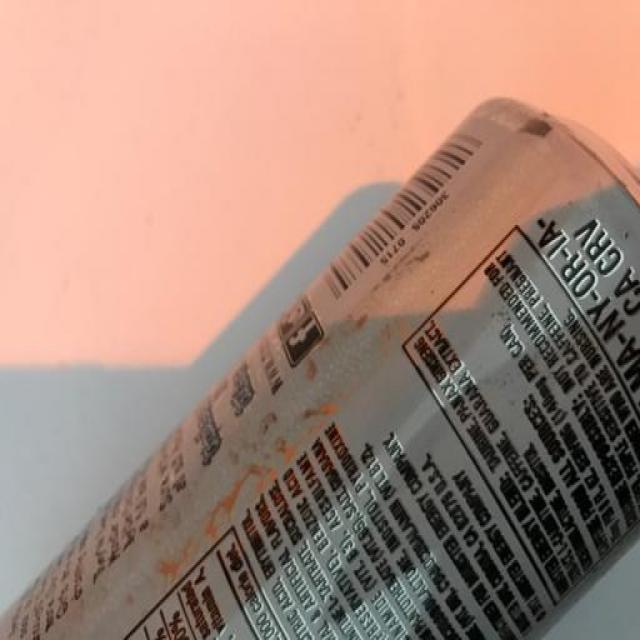metel: (243, 159, 635, 640), (74, 456, 306, 640)
